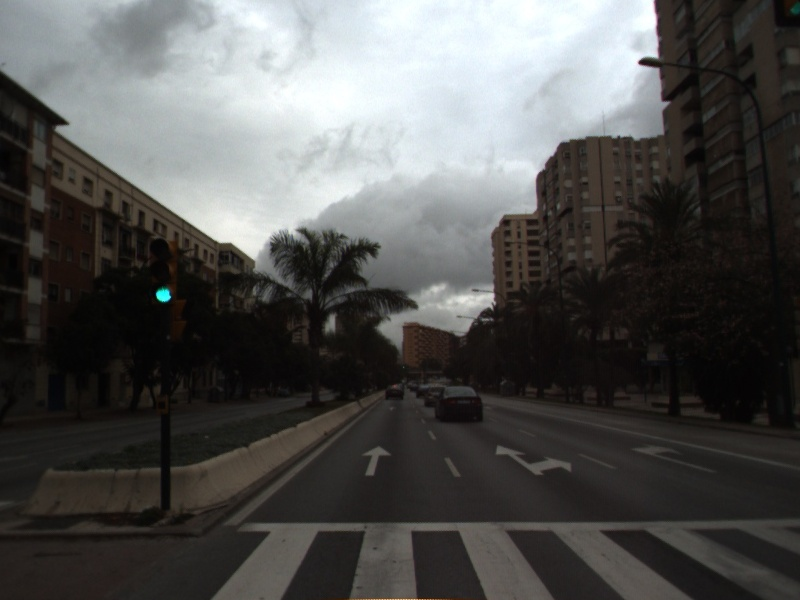RIGHT: (628, 440, 719, 475)
STRAIGHT: (359, 444, 394, 478)
STRAIGHT_RIGHT: (493, 442, 574, 477)
